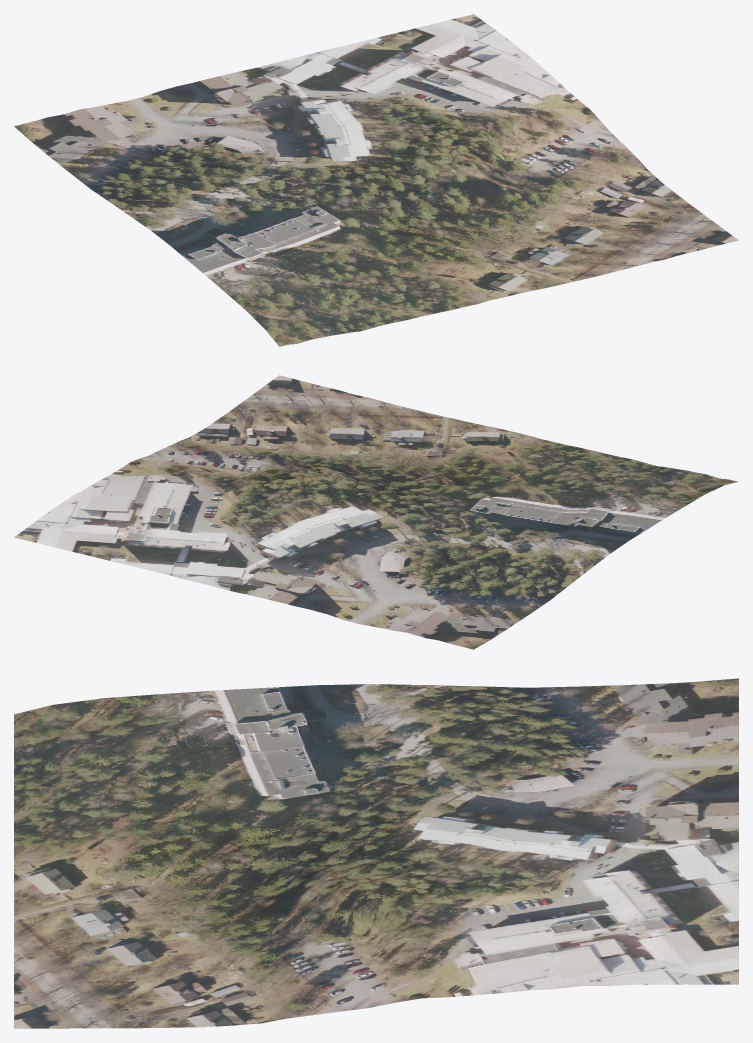
File: CM_Terrain_24488615_6822046.fbx
The picture shows the model from 3 angles, top to bottom: view 1: azimuth 30°, elevation 25°; view 2: azimuth 150°, elevation 25°; view 3: azimuth 270°, elevation 25°; orthographic projection. The views are drawn at different scales.
Visible parts, largest first — view 1: CM_Terrain_24488615_6822046_LOD0; view 2: CM_Terrain_24488615_6822046_LOD0; view 3: CM_Terrain_24488615_6822046_LOD0.
Part boxes in pixels (<box>): CM_Terrain_24488615_6822046_LOD0: <box>14,14,738,346</box>; CM_Terrain_24488615_6822046_LOD0: <box>14,375,738,649</box>; CM_Terrain_24488615_6822046_LOD0: <box>14,678,738,1028</box>.
Size of what is drawn, in the model's own units: 205 by 15.16 by 205.
